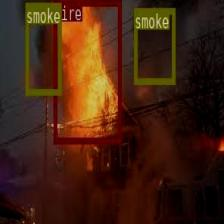fire: (53, 0, 121, 142)
smoke: (25, 2, 61, 94), (134, 7, 174, 84)
